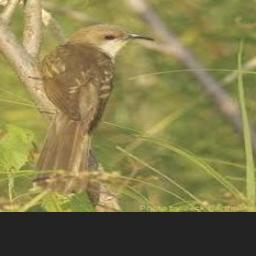Cuckoo: (29, 23, 154, 195)
